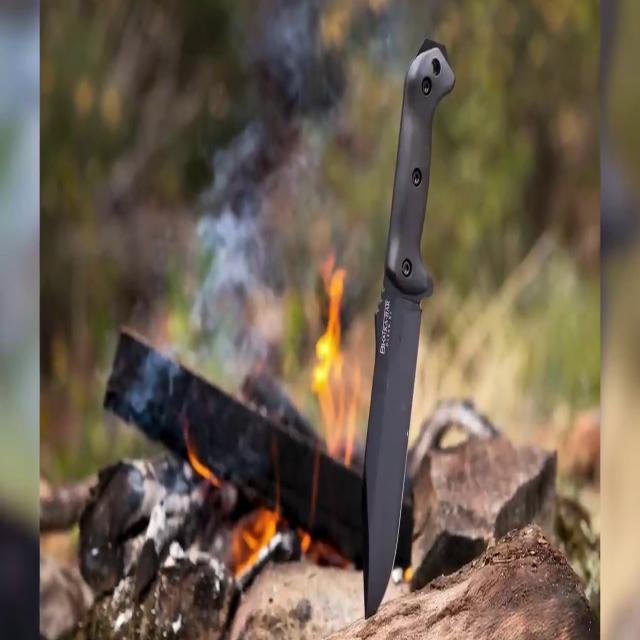Knife: (351, 39, 457, 628)
